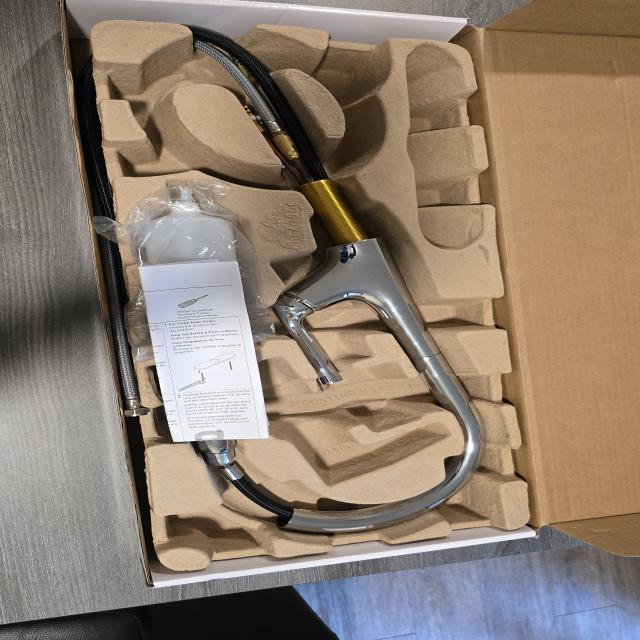1o: (150, 24, 490, 535)
2m: (231, 357, 450, 484)
3o: (133, 183, 252, 345)
4m: (407, 44, 484, 249)
5m: (313, 51, 382, 96)
6m: (106, 51, 207, 111)
7m: (125, 118, 245, 179)
8: (136, 259, 271, 443)
